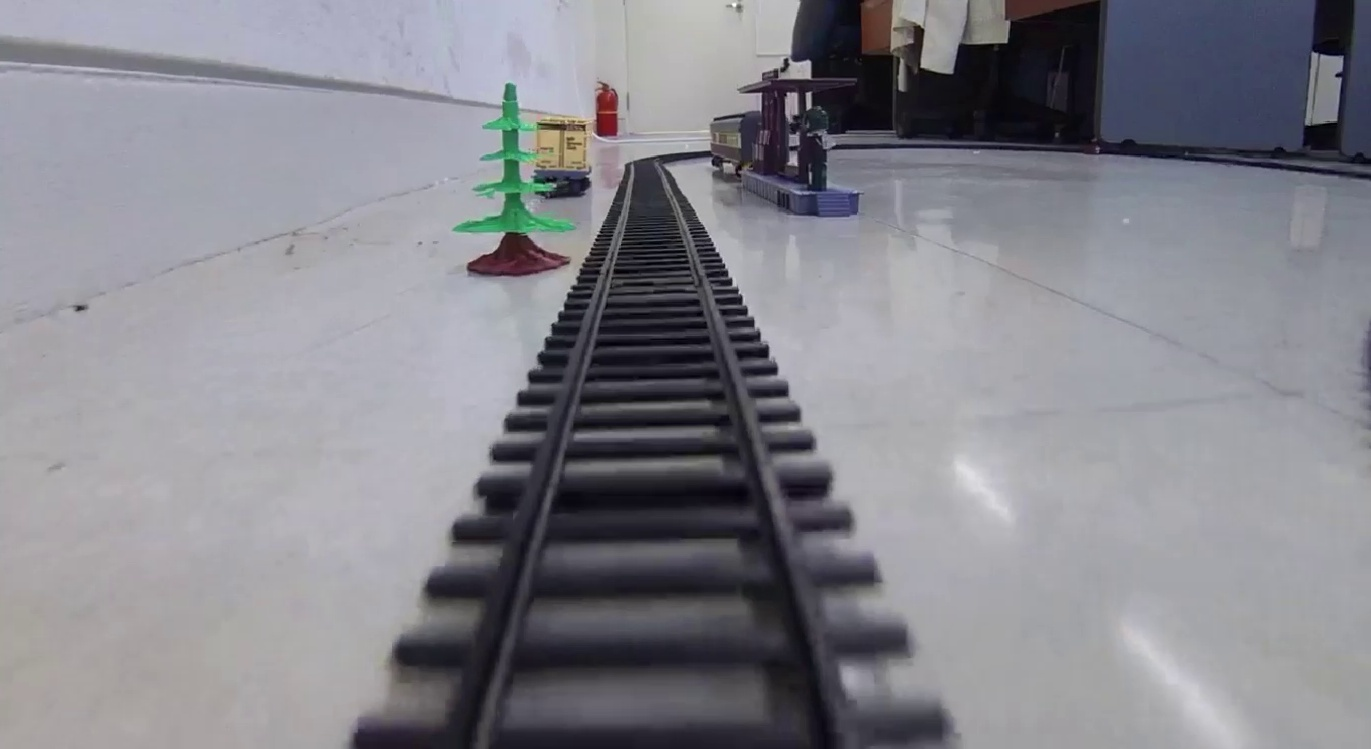tree: (450, 83, 574, 277)
